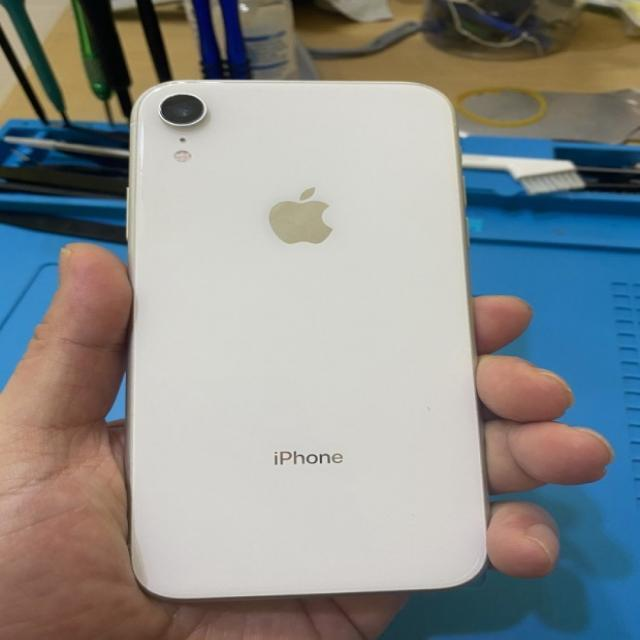phone: (132, 80, 489, 600)
